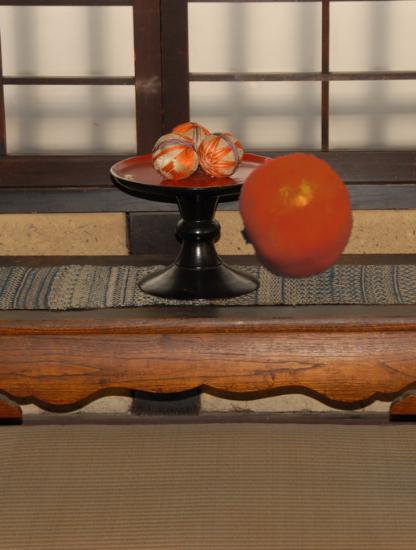Clementine: (232, 151, 362, 281)
